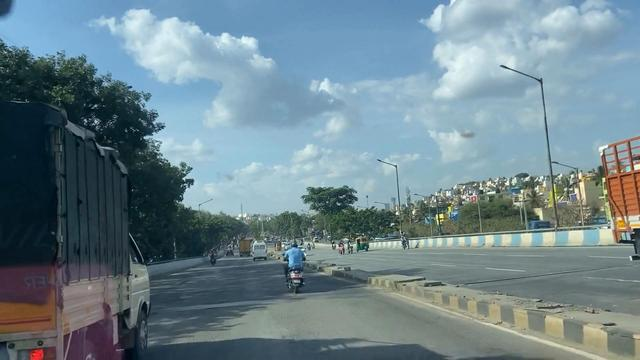HMV: (11, 101, 152, 360)
LMV: (280, 243, 308, 288)
